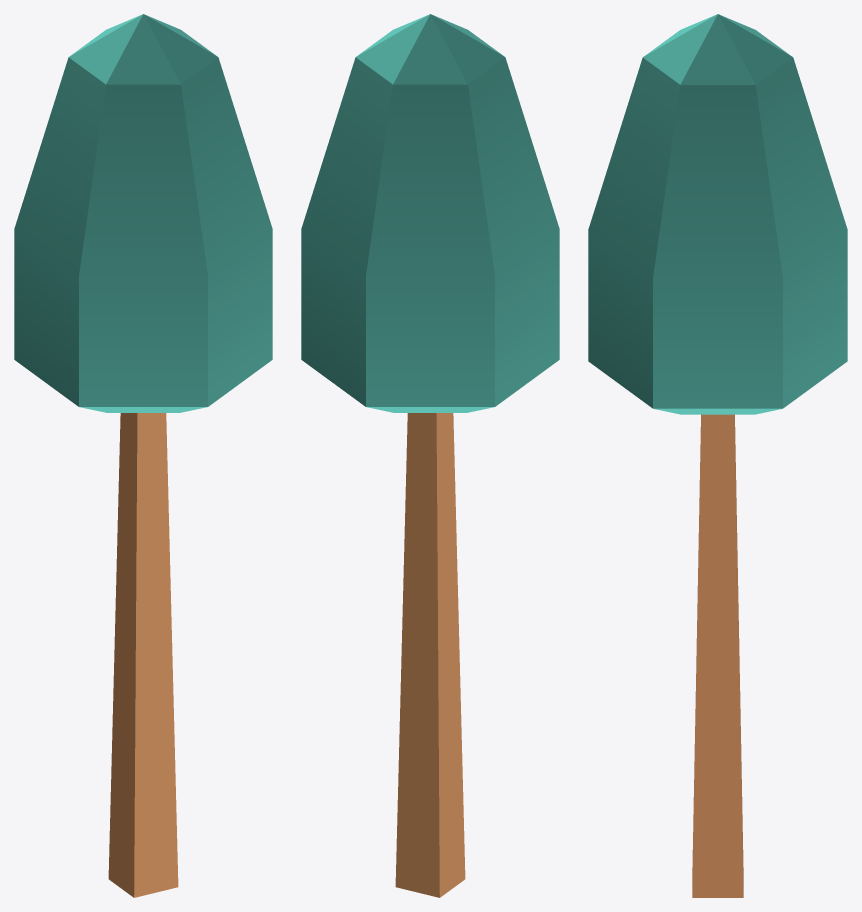
Rendered from tree_simple.obj.
3 views of the same model, side by side, from view 1: azimuth 30°, elevation 25°; view 2: azimuth 150°, elevation 25°; view 3: azimuth 270°, elevation 25° (orthographic).
Visible parts, largest first — view 1: tree_simple; view 2: tree_simple; view 3: tree_simple.
Boxes of the visible parts, bbox=[...] form: tree_simple: bbox=[14, 14, 272, 897]; tree_simple: bbox=[301, 14, 559, 897]; tree_simple: bbox=[588, 14, 847, 897].
Bounding box in the file's own units: 3.55 × 15.19 × 4.09.
